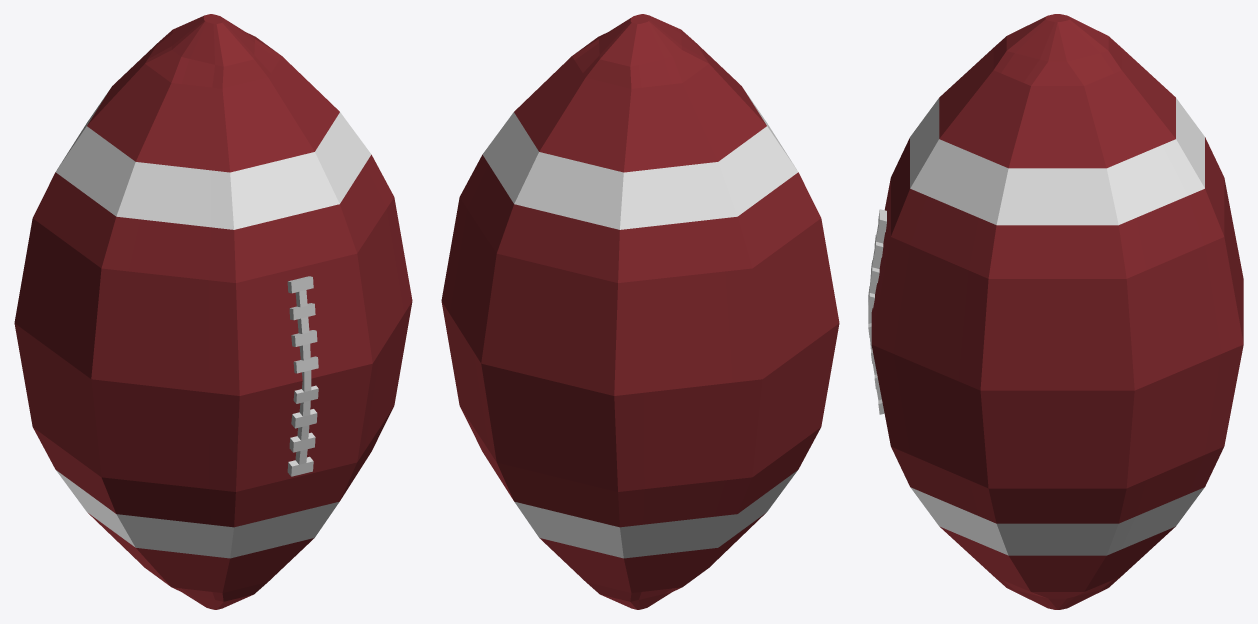
Rendered from American Football.fbx.
3 views of the same model, side by side, from view 1: azimuth 30°, elevation 25°; view 2: azimuth 150°, elevation 25°; view 3: azimuth 270°, elevation 25° (orthographic).
Parts seen in each view (by area): view 1: American Football; view 2: American Football; view 3: American Football.
Boxes of the visible parts, bbox=[...] form: American Football: bbox=[14, 14, 412, 609]; American Football: bbox=[441, 14, 839, 609]; American Football: bbox=[868, 14, 1243, 609].
Size of the model in its own units: 148 by 258 by 149.
